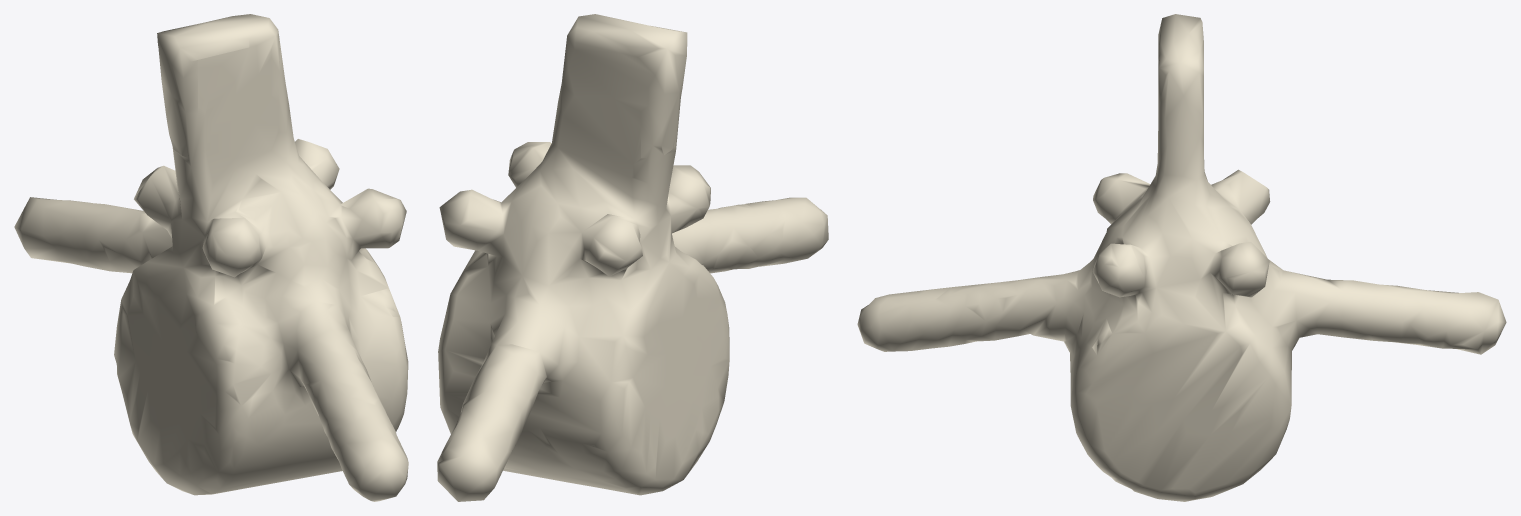
Rendered from lumbar_6.glb.
3 renders of one model, left to right at view 1: azimuth 30°, elevation 25°; view 2: azimuth 150°, elevation 25°; view 3: azimuth 270°, elevation 25°, orthographic. The views are drawn at different scales.
Visible parts, largest first — view 1: geometry_0; view 2: geometry_0; view 3: geometry_0.
Part boxes in pixels (box(x1,y1,x2,y2)): geometry_0: box(14, 14, 408, 501); geometry_0: box(437, 14, 828, 501); geometry_0: box(857, 14, 1506, 501).
Size of the model in its own units: 0.1132 by 0.241 by 0.3412.
